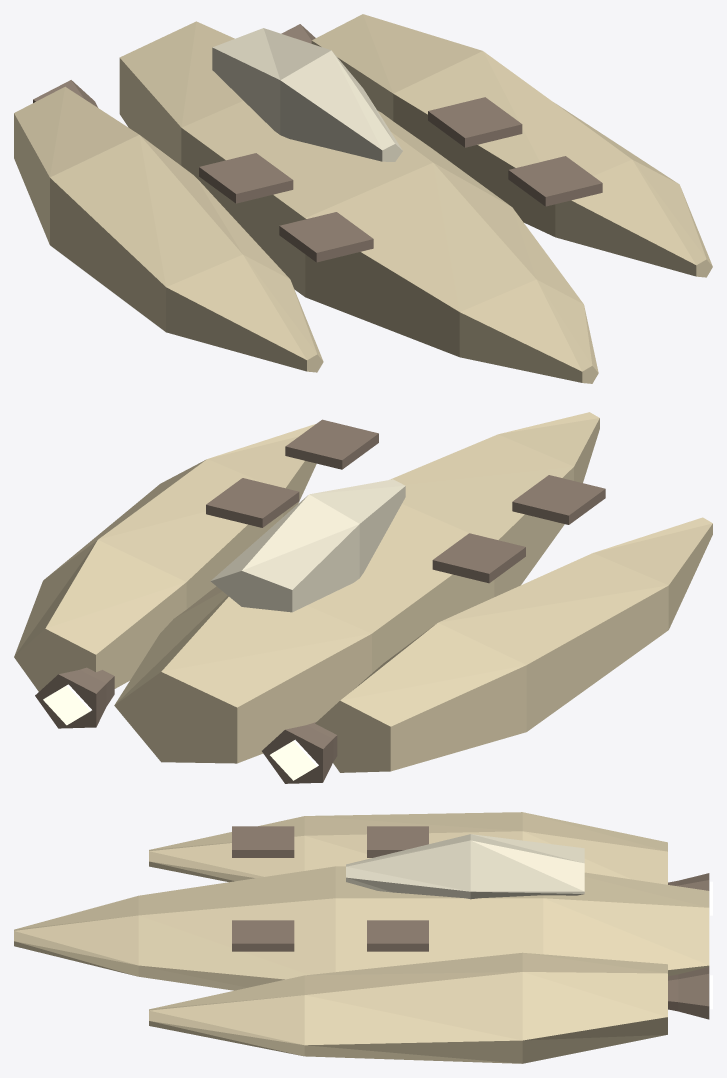
3 renders of one model, top to bottom at view 1: azimuth 30°, elevation 25°; view 2: azimuth 150°, elevation 25°; view 3: azimuth 270°, elevation 25°, orthographic. The views are drawn at different scales.
Bounding box in the file's own units: 12 × 4.16 × 16.85.
